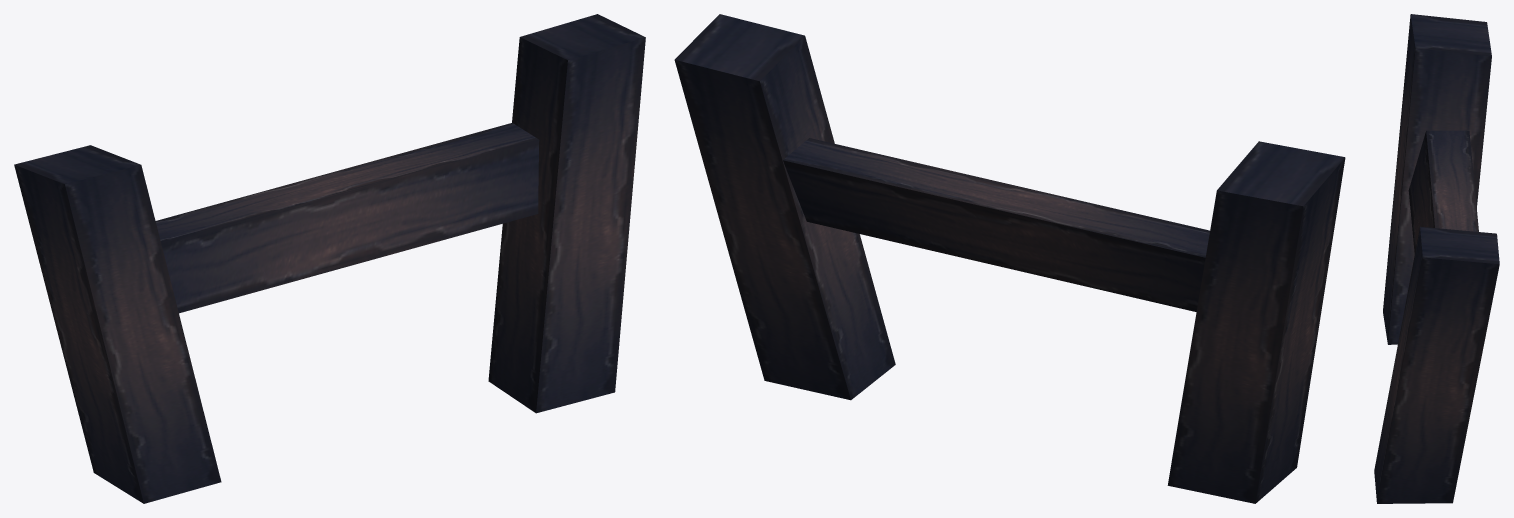
File: Fence_A.fbx
3 renders of one model, left to right at view 1: azimuth 30°, elevation 25°; view 2: azimuth 150°, elevation 25°; view 3: azimuth 270°, elevation 25°, orthographic. The views are drawn at different scales.
Visible parts, largest first — view 1: Fence_A; view 2: Fence_A; view 3: Fence_A.
Part boxes in pixels (x1,y1,x2,y2): Fence_A: (14, 14, 645, 503); Fence_A: (674, 14, 1345, 503); Fence_A: (1374, 14, 1499, 503).
Bounding box in the file's own units: 44.14 × 22.97 × 9.6.
1 material, 1 textured.
